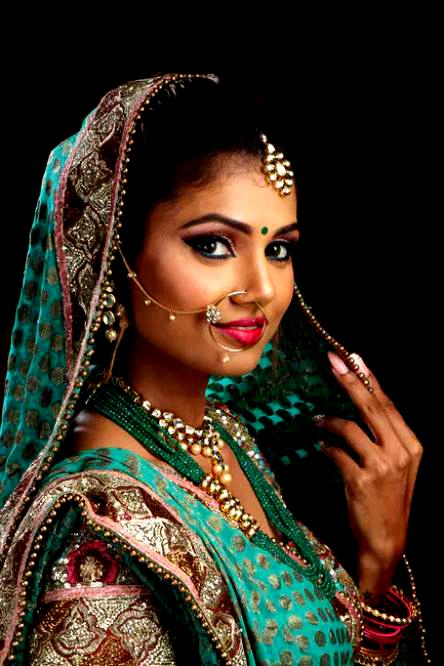face: (136, 160, 303, 377)
